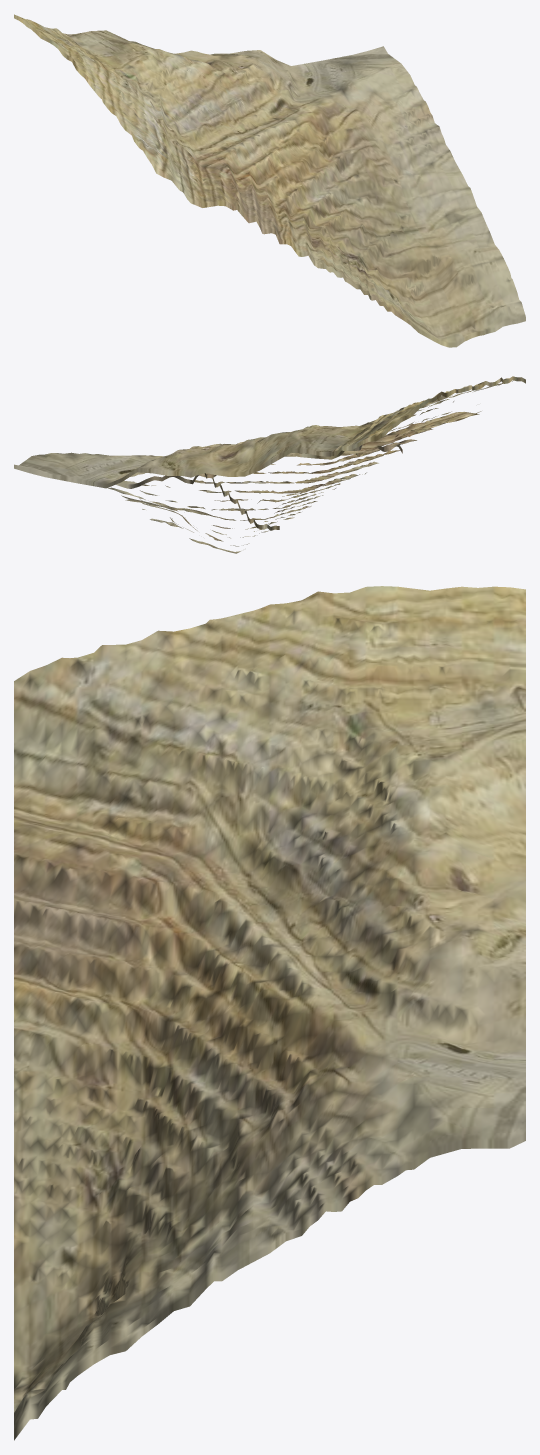
The picture shows the model from 3 angles, top to bottom: view 1: azimuth 30°, elevation 25°; view 2: azimuth 150°, elevation 25°; view 3: azimuth 270°, elevation 25°; orthographic projection. The views are drawn at different scales.
Visible parts, largest first — view 1: l1-1-3; view 2: l1-1-3; view 3: l1-1-3.
Part boxes in pixels (left/top/right/bottom): l1-1-3: left=14, top=14, right=525, bottom=347; l1-1-3: left=14, top=376, right=525, bottom=553; l1-1-3: left=14, top=586, right=525, bottom=1440.
Bounding box in the file's own units: 768 × 603 × 512.
Materials: 1 (1 with a texture image).
